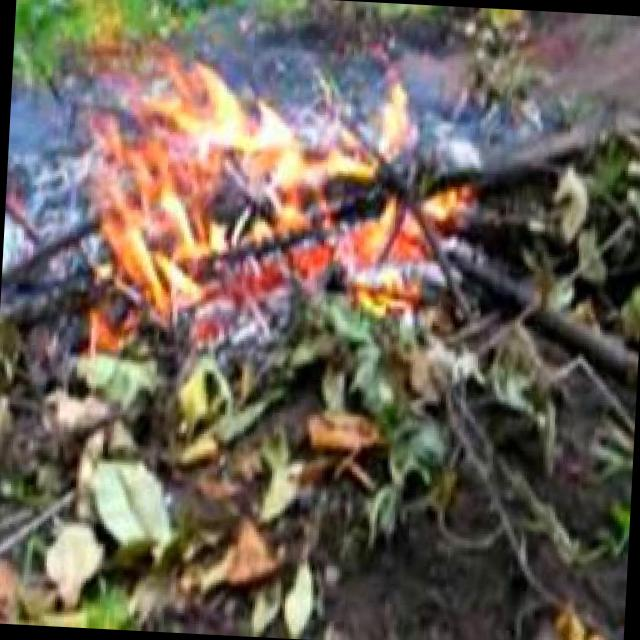Fire: (60, 36, 477, 346)
